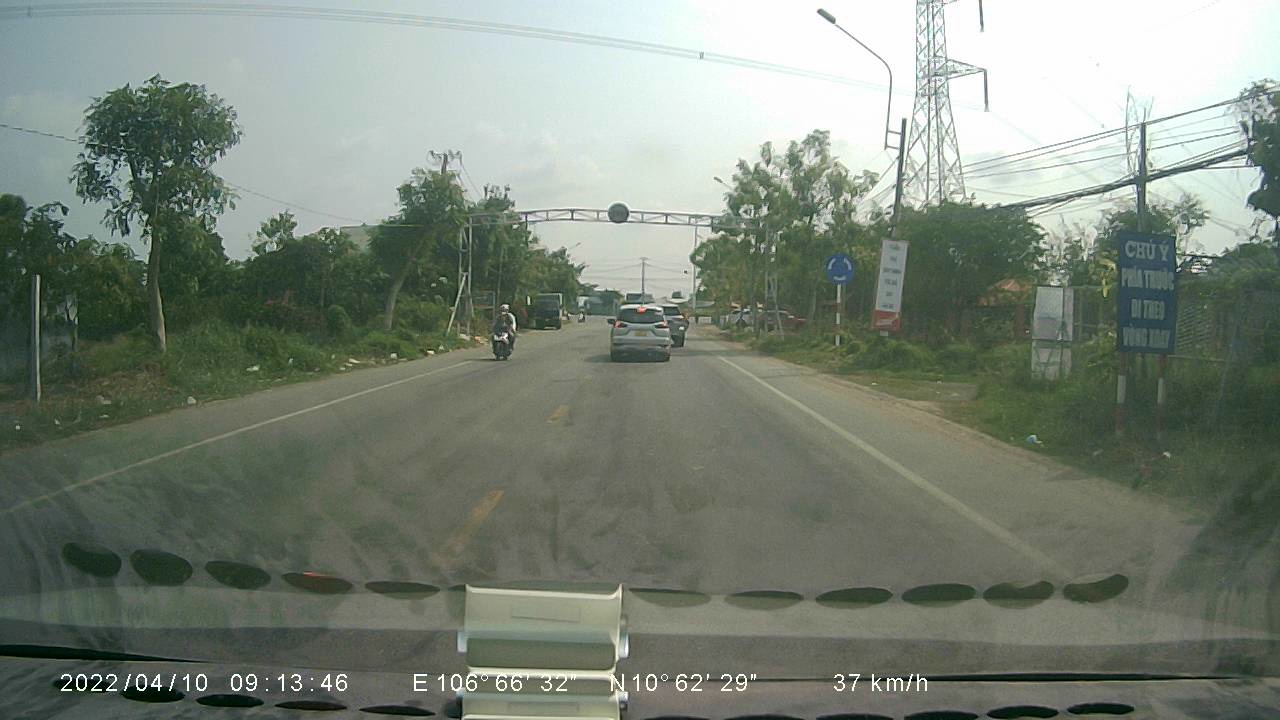Bien khac: (822, 252, 854, 285)
